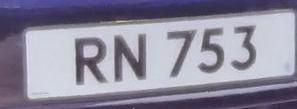3: (227, 20, 263, 79)
5: (194, 22, 231, 81)
7: (162, 23, 201, 85)
N: (111, 27, 154, 89)
R: (67, 32, 112, 90)
